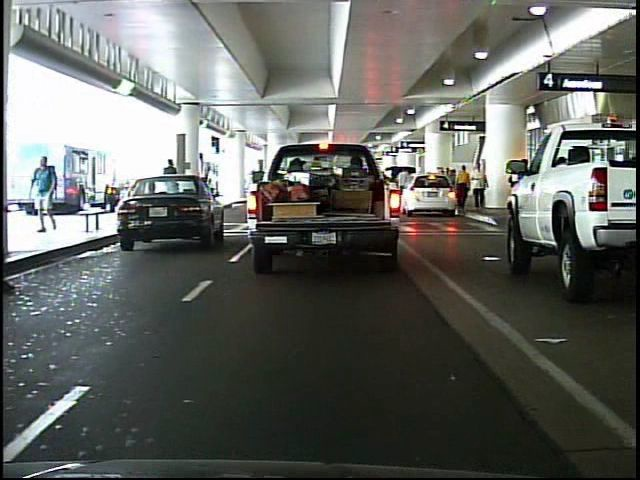person: (31, 154, 69, 236), (159, 153, 185, 217), (448, 160, 472, 220)
